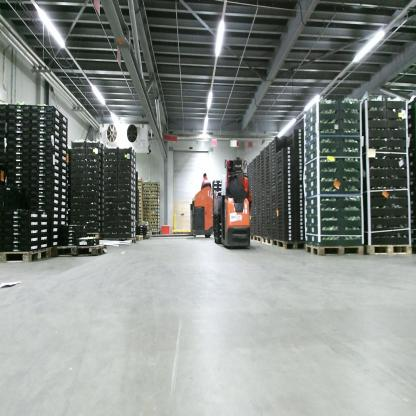pallet: (49, 242, 107, 263), (307, 241, 363, 261), (0, 246, 55, 265), (361, 238, 412, 257), (273, 236, 307, 251), (101, 237, 137, 247), (84, 230, 100, 242), (262, 234, 273, 248), (134, 234, 145, 244), (253, 233, 262, 245), (150, 230, 161, 237), (249, 233, 254, 242)
pallet_truck: (209, 146, 252, 251), (183, 180, 225, 241)
